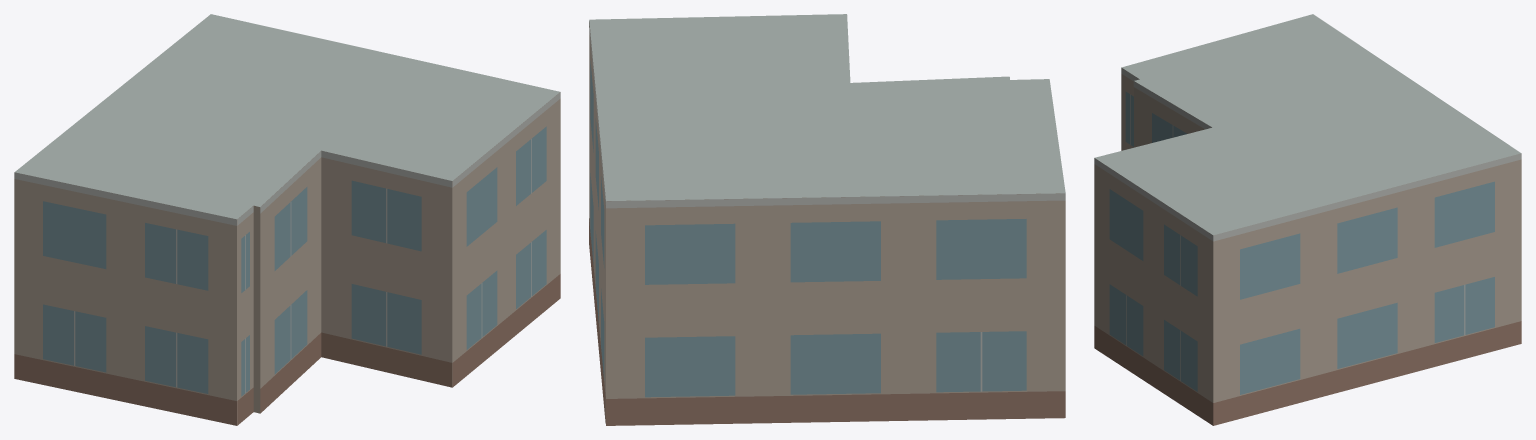
File: survey-upis-32625518.glb
3 views of the same model, side by side, from view 1: azimuth 30°, elevation 25°; view 2: azimuth 150°, elevation 25°; view 3: azimuth 270°, elevation 25° (orthographic). The views are drawn at different scales.
Parts seen in each view (by area): view 1: survey-upis-32625518.tmp; view 2: survey-upis-32625518.tmp; view 3: survey-upis-32625518.tmp.
Part boxes in pixels (left/top/right/bottom): survey-upis-32625518.tmp: left=14, top=14, right=560, bottom=425; survey-upis-32625518.tmp: left=589, top=14, right=1065, bottom=425; survey-upis-32625518.tmp: left=1094, top=14, right=1521, bottom=425.
Bounding box in the file's own units: 18.96 × 7.6 × 15.46.
